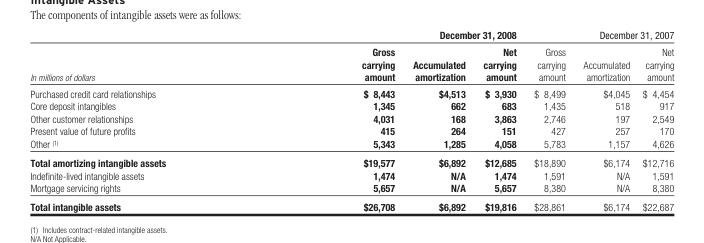table: (29, 28, 673, 212)
table column: (29, 28, 263, 212), (263, 28, 403, 212), (403, 28, 473, 212), (573, 28, 635, 212), (473, 28, 524, 212), (524, 28, 573, 212), (635, 28, 673, 212)
table column header: (29, 28, 673, 84)
table row: (29, 42, 673, 84), (29, 152, 673, 168), (29, 181, 673, 197), (29, 84, 673, 99), (29, 137, 673, 152), (29, 197, 673, 212), (29, 28, 673, 42), (29, 111, 673, 124), (29, 124, 673, 137), (29, 168, 673, 181), (29, 99, 673, 111)
table spanning cell: (29, 28, 263, 84), (263, 28, 524, 42), (524, 28, 673, 42)
